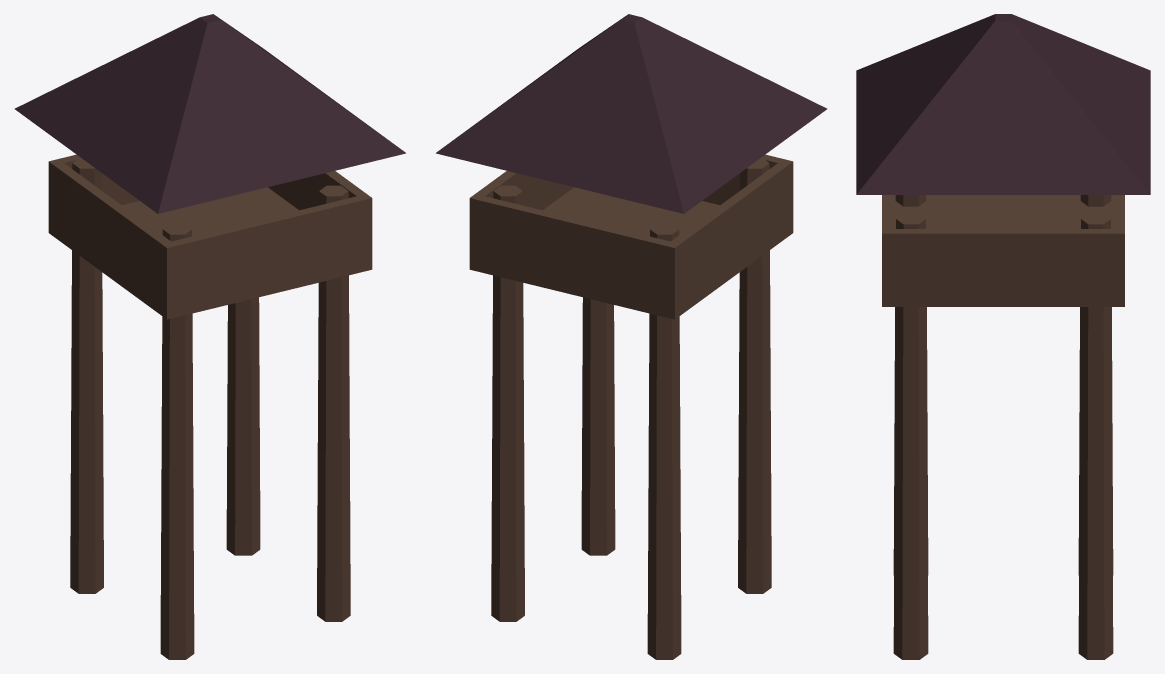
File: tower.glb
3 views of the same model, side by side, from view 1: azimuth 30°, elevation 25°; view 2: azimuth 150°, elevation 25°; view 3: azimuth 270°, elevation 25° (orthographic). The views are drawn at different scales.
Visible parts, largest first — view 1: Tower; view 2: Tower; view 3: Tower.
Part boxes in pixels (x1,y1,x2,y2): Tower: [14, 14, 405, 659]; Tower: [436, 14, 827, 659]; Tower: [856, 14, 1150, 659].
Size of the model in its own units: 5.09 by 11.4 by 5.09.
